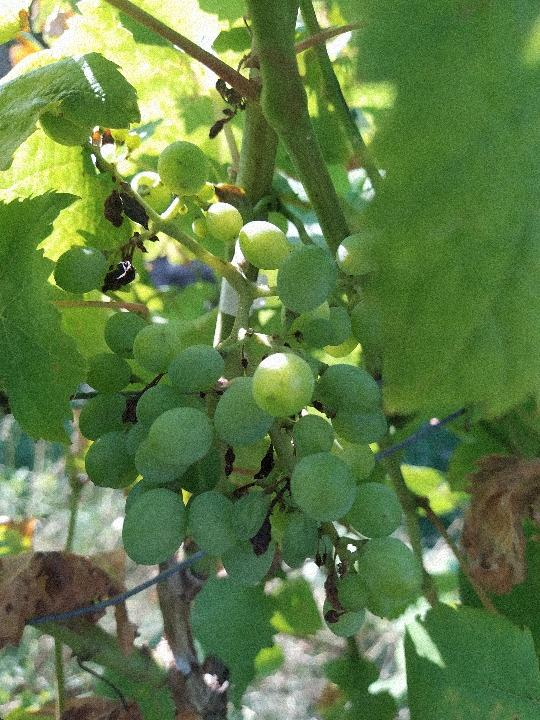grape: (36, 104, 427, 642)
